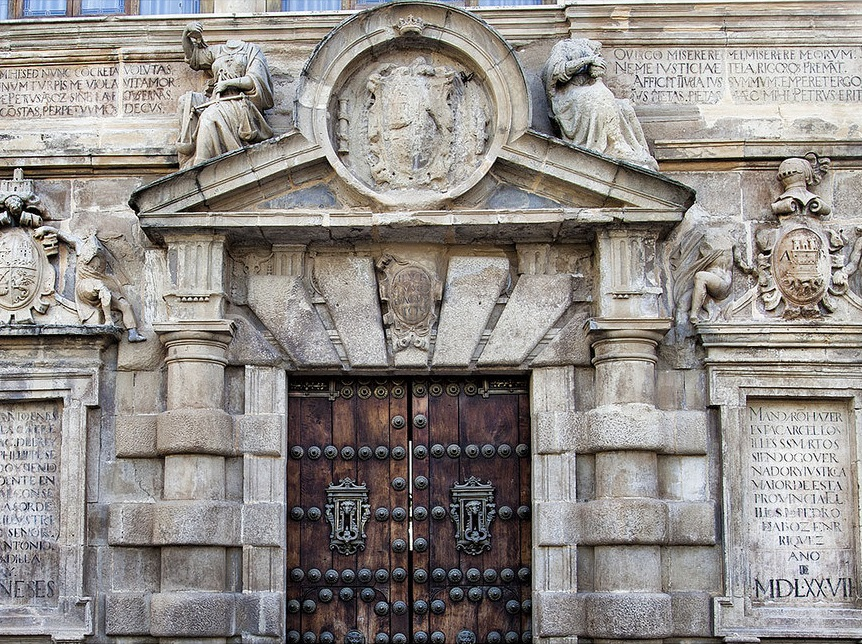fronton-partido: (118, 123, 711, 248)
vano-adintelado: (232, 324, 568, 644)
